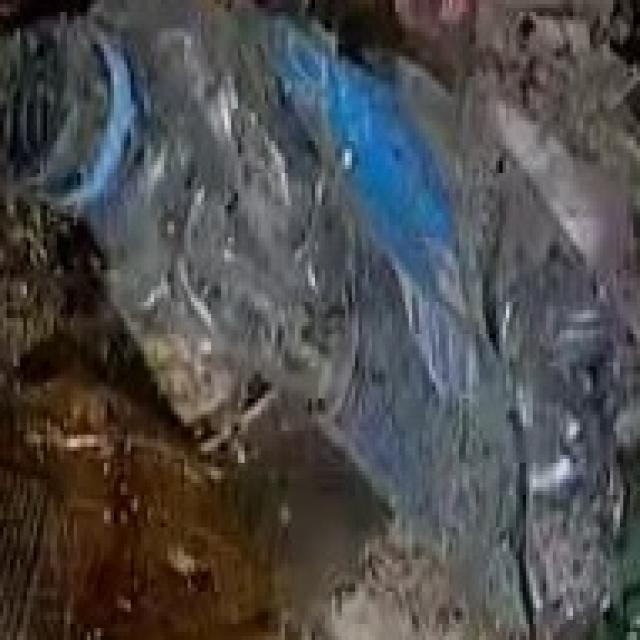plasticbottle: (0, 0, 640, 560)
